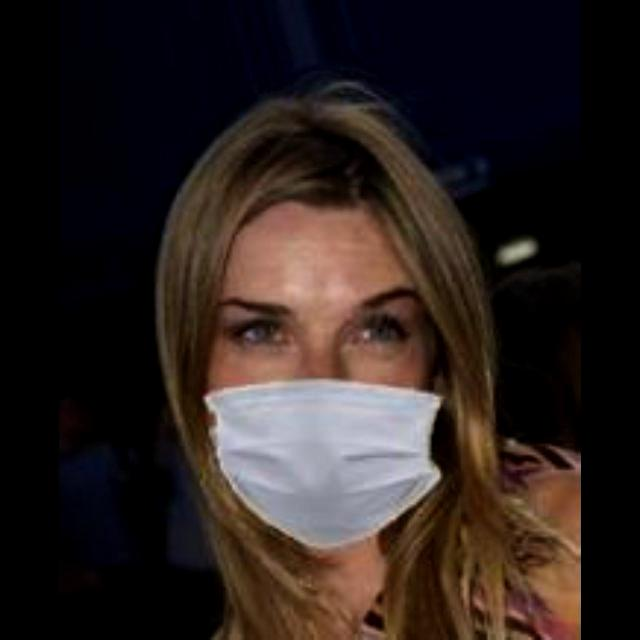suspicion: (178, 59, 510, 584)
